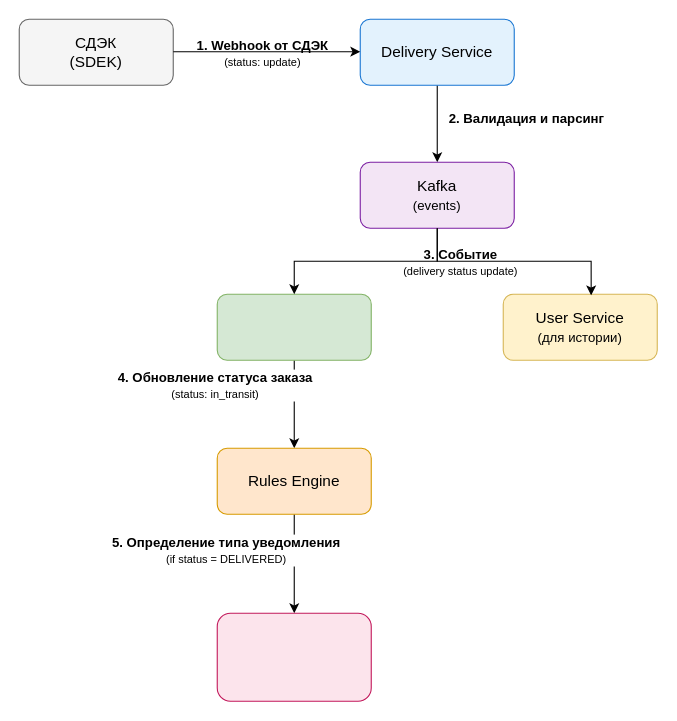
The diagram is 677 pixels wide and 721 high, and some of its shapes have lost their labels. The box of each missing label's shape, as (x1, y1, x2, y2) in pixels:
Notification Service (Push/Email/SMS): (216, 612, 371, 701)
Order Service: (216, 293, 371, 360)
